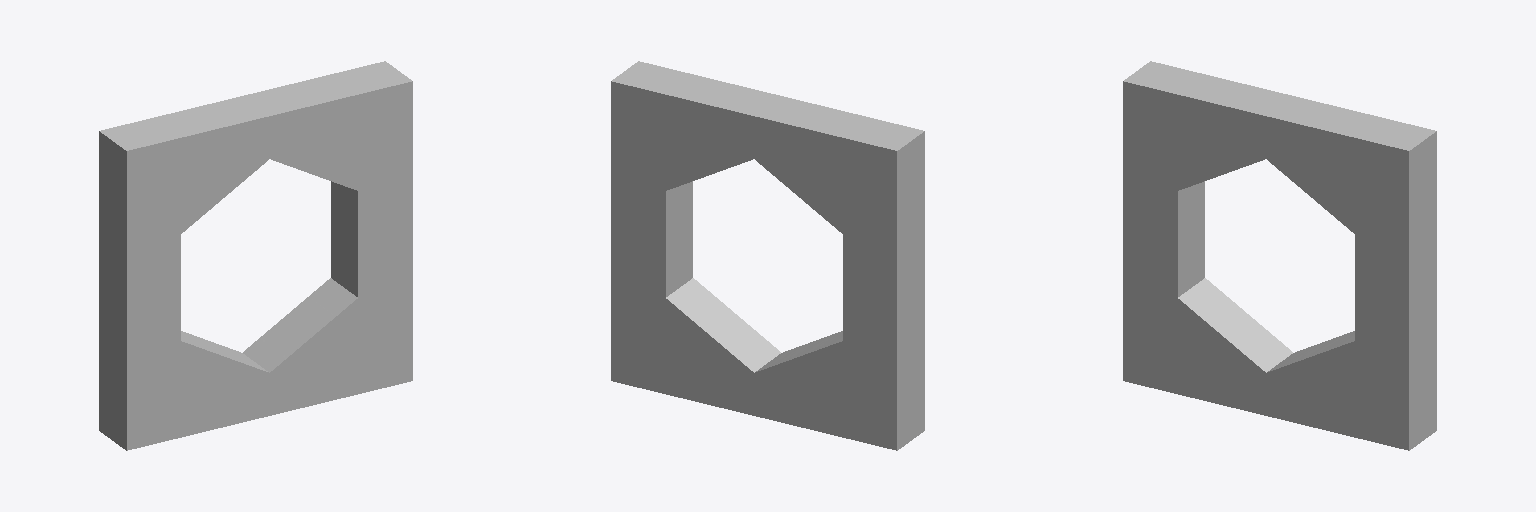
File: hexagon_hole.obj
3 views of the same model, side by side, from view 1: azimuth 30°, elevation 25°; view 2: azimuth 150°, elevation 25°; view 3: azimuth 330°, elevation 25° (orthographic).
Bounding box in the file's own units: 0.06 × 0.06 × 0.01.